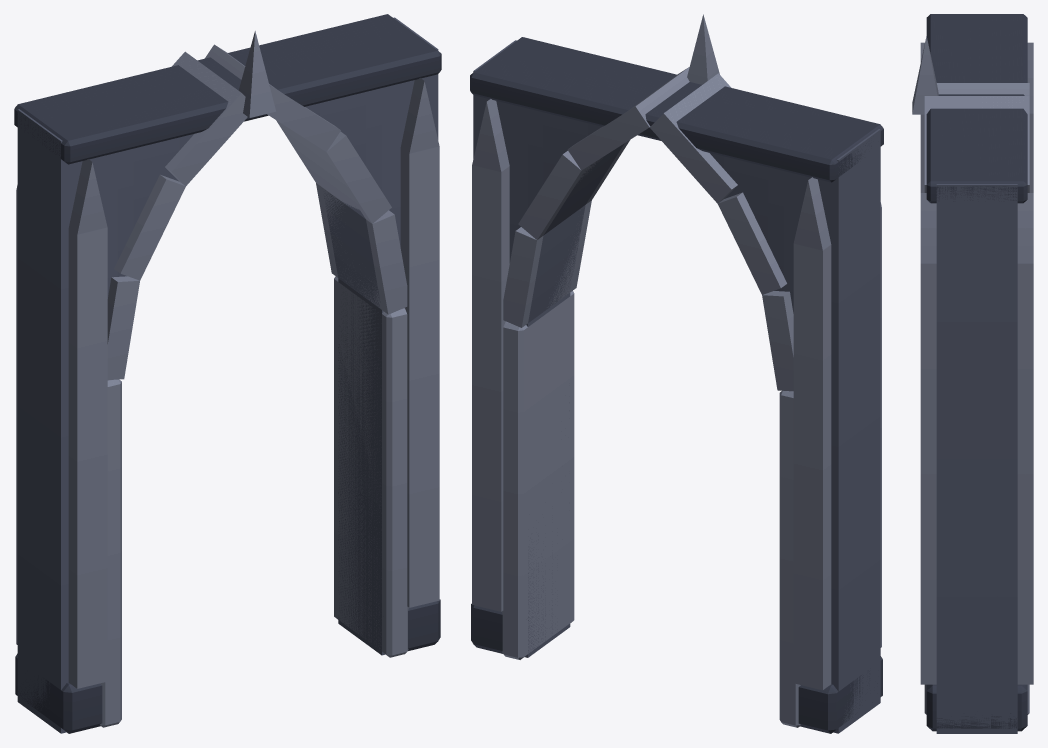
File: catedral-gothic_archway.glb
The picture shows the model from 3 angles, left to right: view 1: azimuth 30°, elevation 25°; view 2: azimuth 150°, elevation 25°; view 3: azimuth 270°, elevation 25°; orthographic projection. The views are drawn at different scales.
Parts seen in each view (by area): view 1: gothic_archway; view 2: gothic_archway; view 3: gothic_archway.
Part boxes in pixels (left/top/right/bottom): gothic_archway: left=14, top=14, right=441, bottom=733; gothic_archway: left=470, top=14, right=883, bottom=733; gothic_archway: left=912, top=14, right=1033, bottom=733.
Size of the model in its own units: 2 by 3.35 by 0.6007.
1 material, 1 textured.
